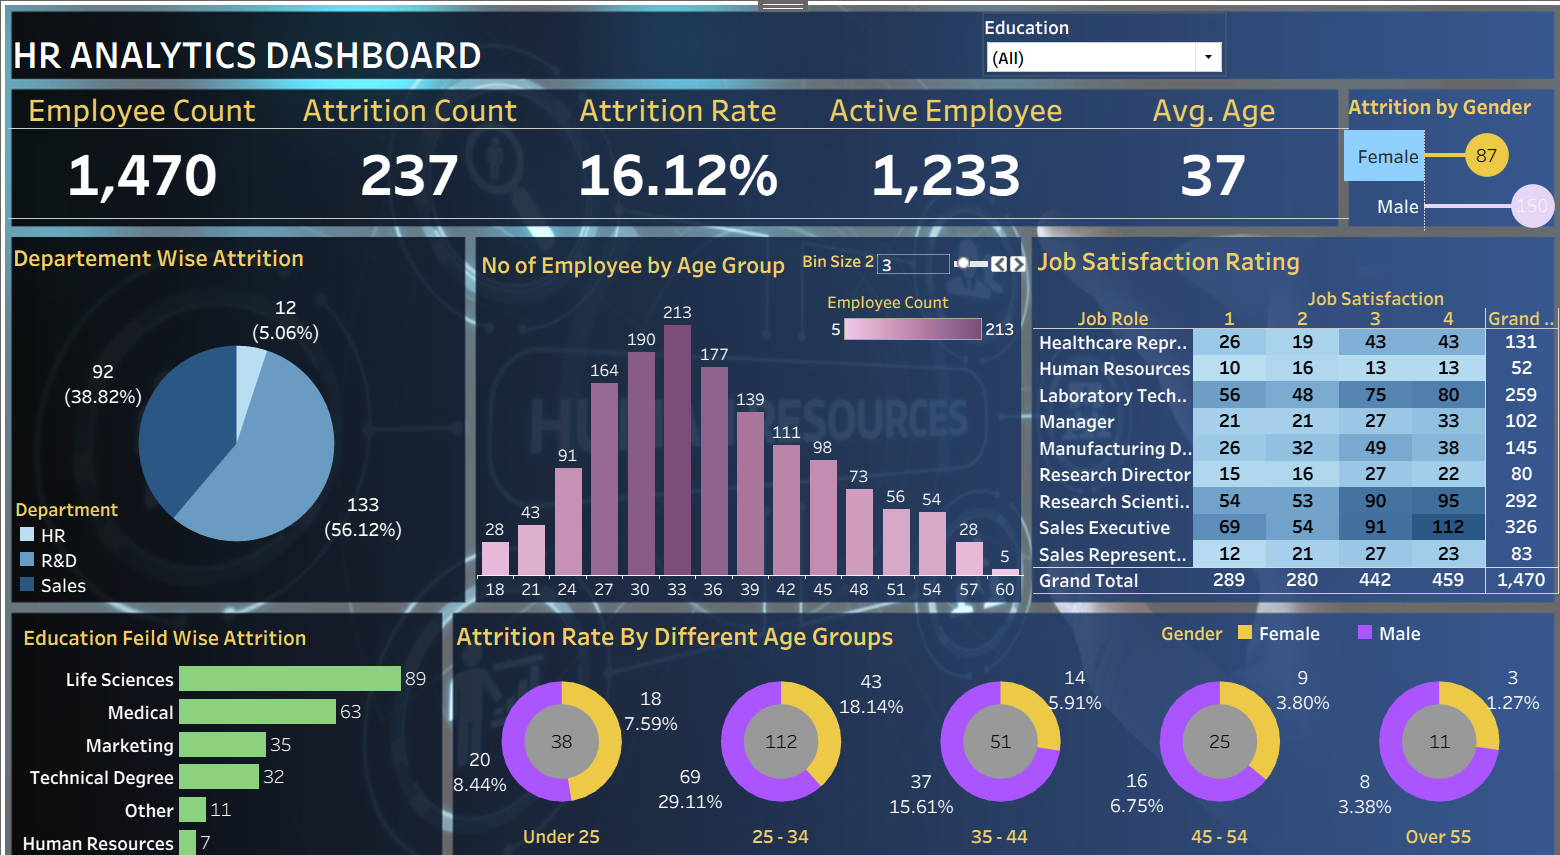

This screenshot's page, from the dashboard's own definition file:
{"tool":"tableau","page":{"name":"HR Analytics Dashboard","canvas":[1580,900],"ordinal":0},"visuals":[{"type":"image","param":"Image/HR background.pptx.png","box":[8,8,1564,884]},{"type":"filter","title":"Department wise Attrition ","param":"[federated.1jew46o1mwnwnz1072hts0gzszw0].[none:Education:nk]","box":[991,21,241,61]},{"type":"worksheet","title":"KPI","mark":"Automatic","box":[15,32,1341,194]},{"type":"worksheet","title":"Attrition by Gender","mark":"Automatic","rows":["Gender"],"cols":["Calculation_1704015043403776","Calculation_1704015043403776"],"box":[1351,95,217,143]},{"type":"worksheet","title":"Department wise Attrition ","mark":"Pie","box":[16,245,455,366]},{"type":"worksheet","title":"Job Satisfaction Rating ","mark":"Square","rows":["Job Role"],"cols":["Job Satisfaction"],"box":[1040,247,526,354]},{"type":"worksheet","title":"No of Employee by Age Group","mark":"Automatic","rows":["Employee Count"],"cols":["Age (bin)"],"box":[484,252,547,356]},{"type":"parameter","param":"[Parameters].[Parameter 2]","box":[809,258,227,40]},{"type":"legend","title":"No of Employee by Age Group","param":"[federated.1jew46o1mwnwnz1072hts0gzszw0].[sum:Employee Count:qk]","box":[834,298,192,55]},{"type":"legend","title":"Department wise Attrition ","param":"[federated.1jew46o1mwnwnz1072hts0gzszw0].[none:Department:nk]","box":[22,503,105,102]},{"type":"worksheet","title":"Attrition Rate By Different Age Groups","mark":"Pie","rows":["Calculation_1704017957883908","Calculation_1704017957883908"],"cols":["CF_age band"],"box":[459,622,1097,234]},{"type":"worksheet","title":"Education Feild Wise Attrition","mark":"Automatic","rows":["Education Field"],"cols":["Calculation_1704015043403776"],"box":[26,626,424,240]},{"type":"legend","title":"Attrition Rate By Different Age Groups","param":"[federated.1jew46o1mwnwnz1072hts0gzszw0].[none:Gender:nk]","box":[1168,627,356,45]}]}

Visuals, with their boxes on the page's 1580x900 design canvas (x1, y1, x2, y2). These are canvas units, not pixel positions in the 1560x855 screenshot, which may show the page scaled, cropped or inside an application window:
image: <bbox>8, 8, 1572, 892</bbox>
"Department wise Attrition " filter: <bbox>991, 21, 1232, 82</bbox>
"KPI" worksheet: <bbox>15, 32, 1356, 226</bbox>
"Attrition by Gender" worksheet: <bbox>1351, 95, 1568, 238</bbox>
"Department wise Attrition " worksheet (Pie marks): <bbox>16, 245, 471, 611</bbox>
"Job Satisfaction Rating " worksheet (Square marks): <bbox>1040, 247, 1566, 601</bbox>
"No of Employee by Age Group" worksheet: <bbox>484, 252, 1031, 608</bbox>
parameter: <bbox>809, 258, 1036, 298</bbox>
"No of Employee by Age Group" legend: <bbox>834, 298, 1026, 353</bbox>
"Department wise Attrition " legend: <bbox>22, 503, 127, 605</bbox>
"Attrition Rate By Different Age Groups" worksheet (Pie marks): <bbox>459, 622, 1556, 856</bbox>
"Education Feild Wise Attrition" worksheet: <bbox>26, 626, 450, 866</bbox>
"Attrition Rate By Different Age Groups" legend: <bbox>1168, 627, 1524, 672</bbox>
